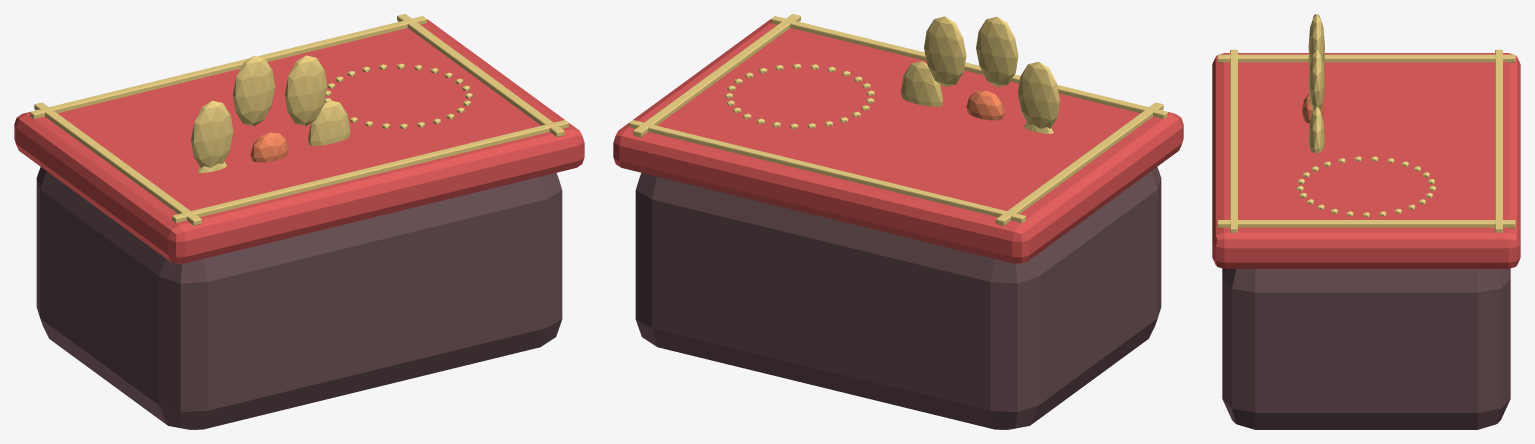
Rendered from craft_makie_bako.glb.
The picture shows the model from 3 angles, left to right: view 1: azimuth 30°, elevation 25°; view 2: azimuth 150°, elevation 25°; view 3: azimuth 270°, elevation 25°; orthographic projection. The views are drawn at different scales.
Visible parts, largest first — view 1: High-gloss makie box carcass, Makie independent inset lid, Gilt horizontal trim, Gilt horizontal trim.001, Gold makie plum flower_petal01, Gold makie plum flower_petal02, Gold makie plum flower_petal03, Thin gilt trim.001, Thin gilt trim, Gold makie plum flower_petal00, Gold makie plum flower_center; view 2: High-gloss makie box carcass, Makie independent inset lid, Gilt horizontal trim.001, Gilt horizontal trim, Gold makie plum flower_petal02, Gold makie plum flower_petal01, Gold makie plum flower_petal03, Thin gilt trim.001, Thin gilt trim, Gold makie plum flower_petal00, Gold makie plum flower_center; view 3: Makie independent inset lid, High-gloss makie box carcass, Thin gilt trim, Thin gilt trim.001, Gilt horizontal trim, Gilt horizontal trim.001, Gold makie plum flower_petal01, Gold makie plum flower_petal00, Gold makie plum flower_petal02.
Boxes of the visible parts, x1,y1,x2,y2 form: High-gloss makie box carcass: (36, 167, 562, 429); Makie independent inset lid: (14, 19, 584, 263); Gilt horizontal trim: (172, 120, 568, 222); Gilt horizontal trim.001: (30, 16, 426, 118); Gold makie plum flower_petal01: (284, 55, 327, 125); Gold makie plum flower_petal02: (233, 55, 275, 126); Gold makie plum flower_petal03: (191, 100, 233, 167); Thin gilt trim.001: (397, 14, 564, 137); Thin gilt trim: (34, 102, 201, 225); Gold makie plum flower_petal00: (308, 100, 350, 145); Gold makie plum flower_center: (250, 132, 288, 162); High-gloss makie box carcass: (635, 167, 1161, 429); Makie independent inset lid: (613, 19, 1183, 263); Gilt horizontal trim.001: (629, 120, 1025, 222); Gilt horizontal trim: (771, 16, 1167, 118); Gold makie plum flower_petal02: (976, 16, 1018, 87); Gold makie plum flower_petal01: (924, 16, 966, 86); Gold makie plum flower_petal03: (1017, 61, 1059, 128); Thin gilt trim.001: (633, 14, 800, 137); Thin gilt trim: (996, 102, 1163, 225); Gold makie plum flower_petal00: (901, 61, 943, 106); Gold makie plum flower_center: (966, 90, 1004, 120); Makie independent inset lid: (1212, 53, 1520, 268); High-gloss makie box carcass: (1222, 268, 1510, 429); Thin gilt trim: (1217, 54, 1515, 62); Thin gilt trim.001: (1217, 220, 1515, 228); Gilt horizontal trim: (1230, 49, 1237, 232); Gilt horizontal trim.001: (1495, 49, 1502, 232); Gold makie plum flower_petal01: (1308, 49, 1324, 110); Gold makie plum flower_petal00: (1308, 107, 1324, 153); Gold makie plum flower_petal02: (1308, 14, 1324, 63).
Size of the model in its own units: 1.95 by 1.47 by 1.34.
